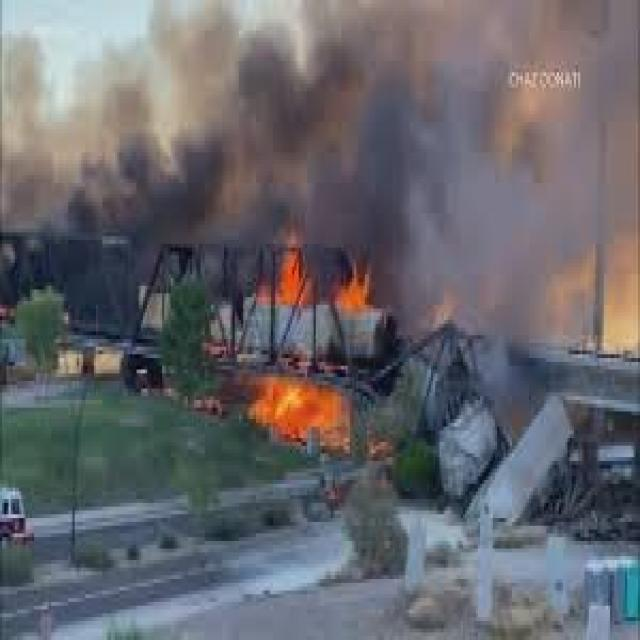fire: (248, 366, 358, 457), (262, 240, 312, 309), (328, 248, 378, 316)
smoke: (2, 4, 640, 328)
